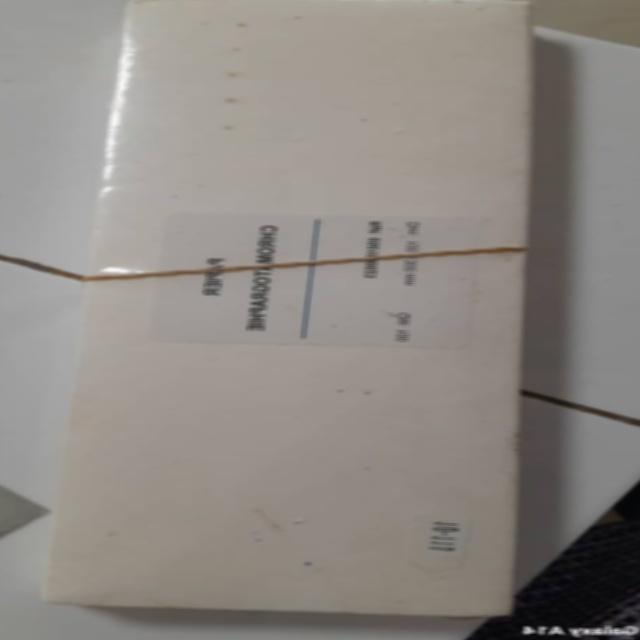Paper Chromatography: (72, 1, 518, 614)
